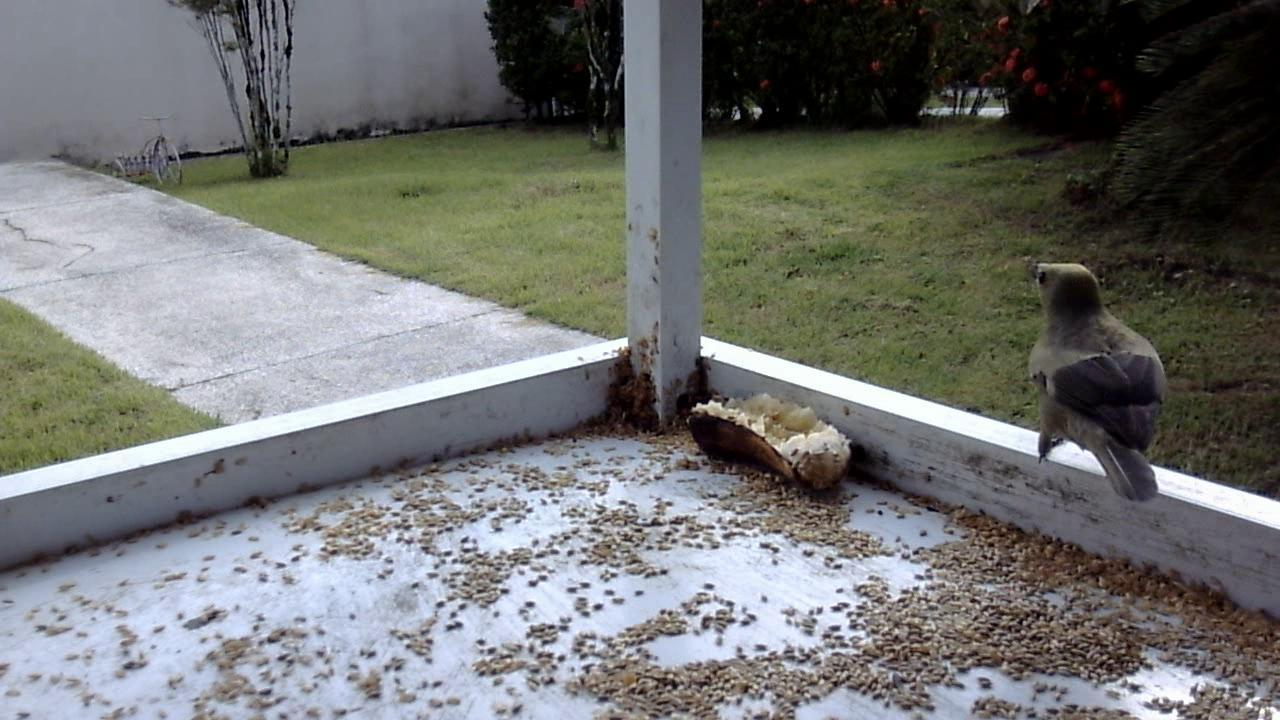sanhaco_do_coqueiro: (1016, 252, 1174, 512)
